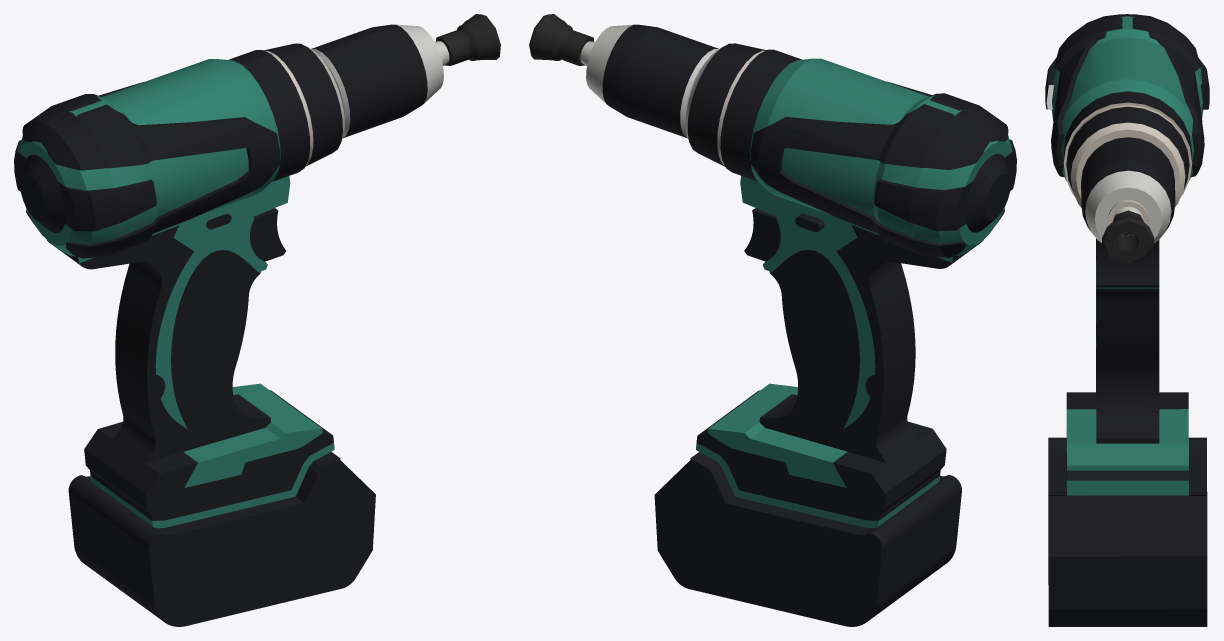
The model's file is Furadiera_Nova.DAE.
The picture shows the model from 3 angles, left to right: view 1: azimuth 30°, elevation 25°; view 2: azimuth 150°, elevation 25°; view 3: azimuth 270°, elevation 25°; orthographic projection.
Visible parts, largest first — view 1: ID12, group_0, group_1, ID129, ID153, ID32, ID24, ID165, ID159, ID201, Cylinder001, ID44 (+2 smaller); view 2: ID12, group_0, group_1, ID129, ID153, ID32, ID24, ID165, ID159, ID135, Cylinder001, ID44 (+2 smaller); view 3: group_0, ID12, ID129, group_1, ID24, ID177, ID153, ID101, ID159, ID18, Cylinder001, ID44 (+4 smaller).
Part boxes in pixels (x1,y1,x2,y2): ID12: (47,225,333,520); group_0: (68,451,375,626); group_1: (16,82,280,258); ID129: (18,59,280,256); ID153: (311,24,427,137); ID32: (78,176,290,428); ID24: (183,383,322,487); ID165: (228,50,310,181); ID159: (264,43,342,166); ID201: (68,181,156,231); Cylinder001: (435,14,500,65); ID44: (90,443,334,528); ID12: (696,225,983,520); group_0: (654,452,961,626); group_1: (750,81,1014,257); ID129: (750,58,1012,255); ID153: (602,24,718,138); ID32: (740,176,953,428); ID24: (708,383,847,487); ID165: (720,49,801,181); ID159: (687,43,766,166); ID135: (874,181,962,230); Cylinder001: (529,14,594,65); ID44: (696,443,939,528); group_0: (1048,437,1207,626); ID12: (1066,238,1188,480); ID129: (1051,16,1203,180); group_1: (1051,14,1204,177); ID24: (1066,409,1188,470); ID177: (1085,170,1171,242); ID153: (1081,137,1175,230); ID101: (1070,122,1185,207); ID159: (1066,106,1189,189); ID18: (1096,239,1159,287); Cylinder001: (1102,210,1154,263); ID44: (1066,480,1188,495).
Bounding box in the file's own units: 23.58 × 25.19 × 7.37.
